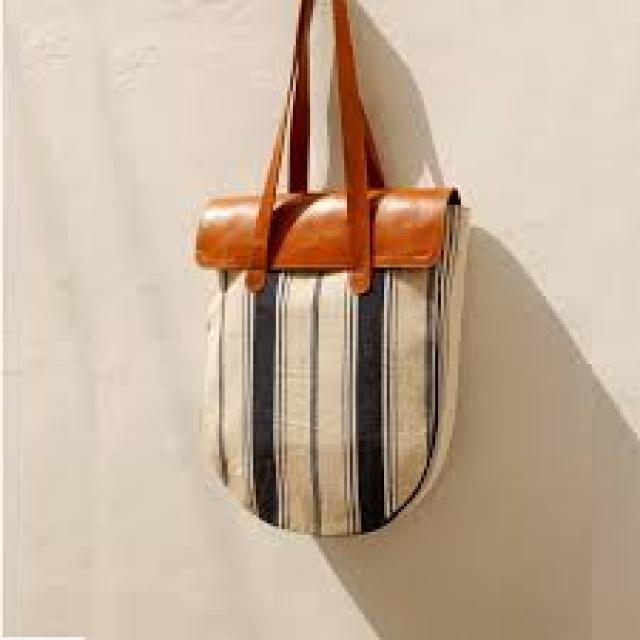handbag: (193, 0, 470, 538)
